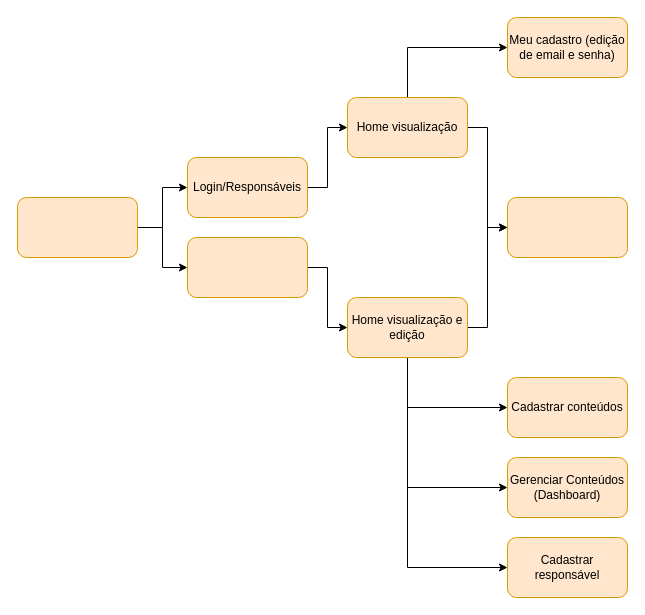
Some shapes in this 645 by 615 pixel diagram are drawn without their labels. The shapes that lost their labels are listed below. From the top down, each one's box as (x1, y1, x2, y2) in pixels, then its label:
(16, 196, 138, 258): Acessou a página
(506, 196, 628, 258): Tela de visualização de conteúdos cadastrados
(186, 236, 308, 298): Login/Educadores
